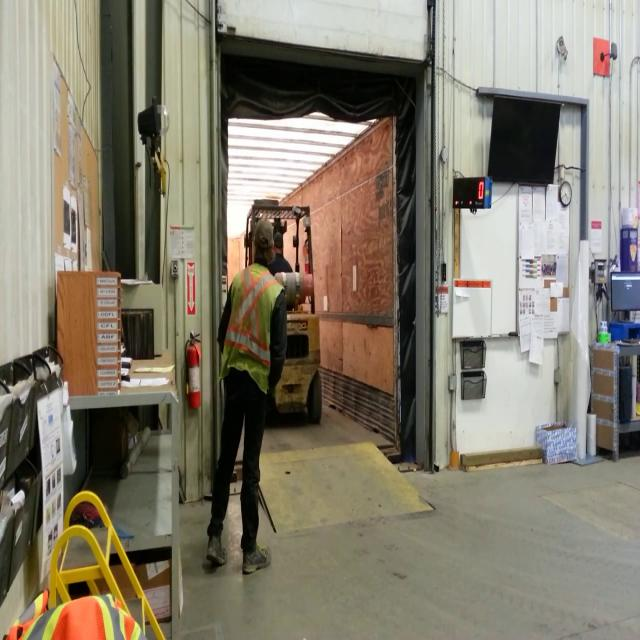Chariot elevateur: (240, 195, 325, 434)
